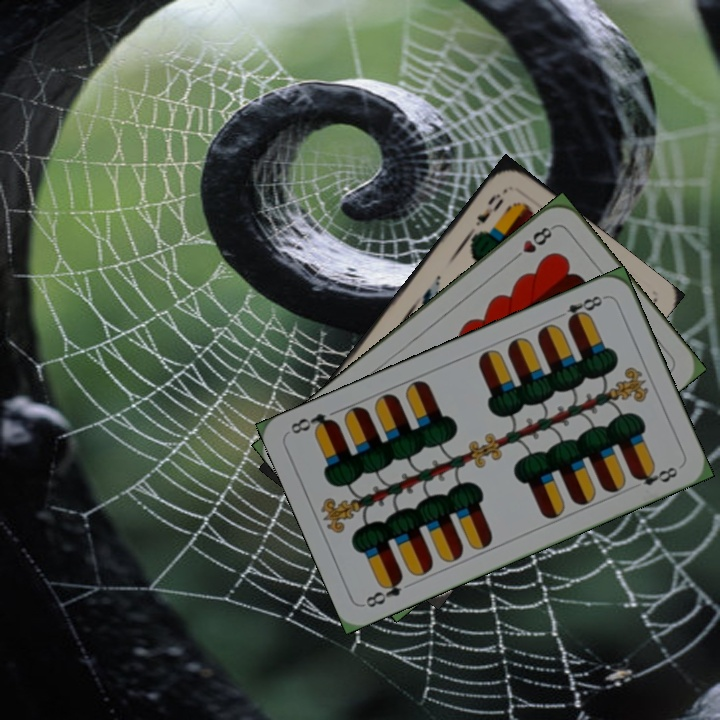E8: (552, 291, 609, 327), (361, 571, 406, 610)
EO: (471, 189, 507, 229)
H8: (508, 222, 557, 264)
